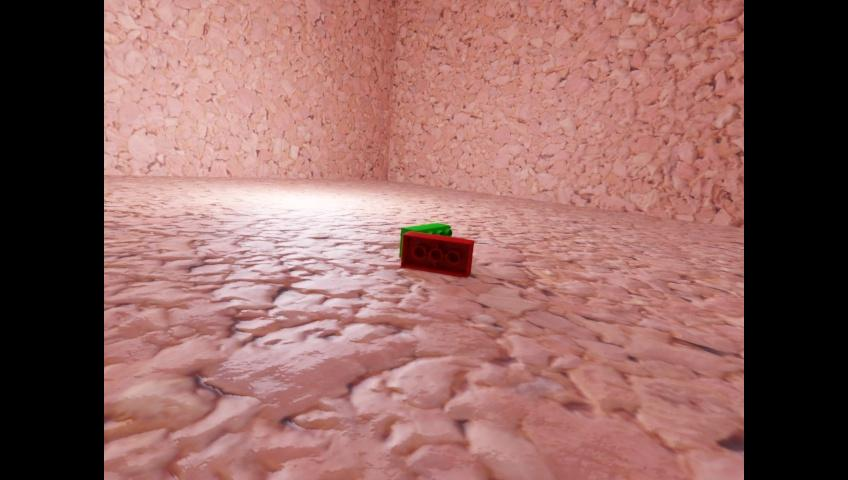4x2_green: (401, 222, 451, 237)
4x2_red: (400, 230, 473, 277)
